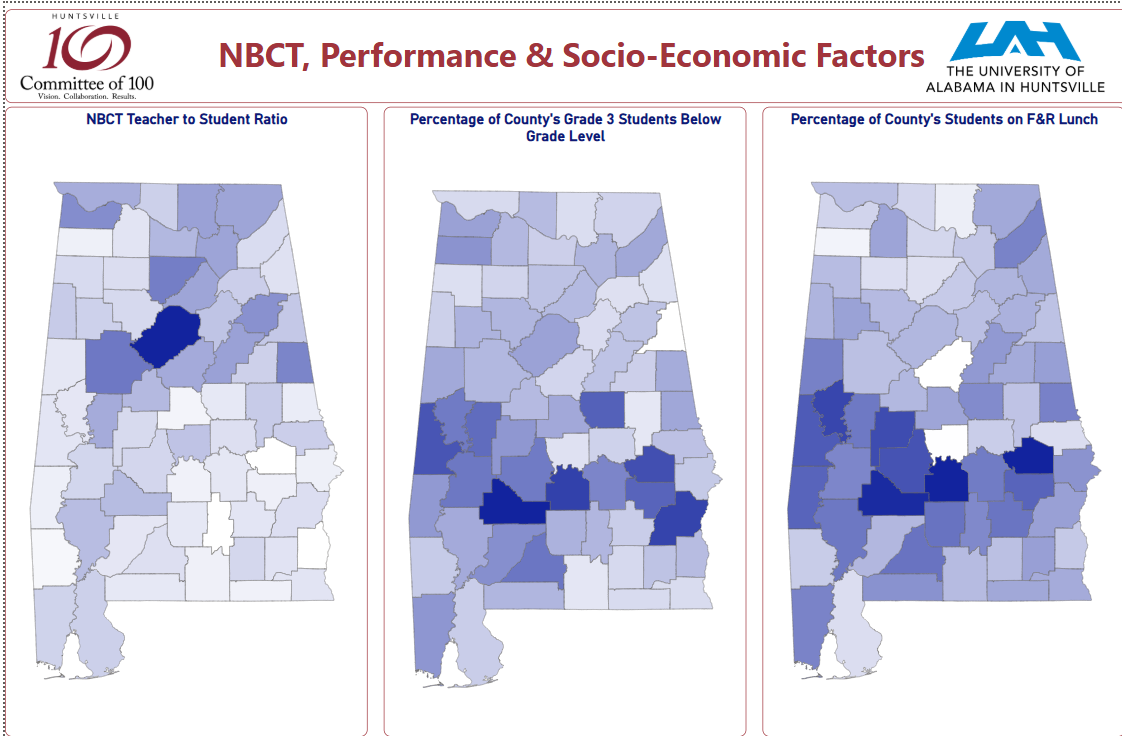

The dashboard page shown, as its layout file describes it:
{"tool":"powerbi","page":{"name":"NBCT, Performance and Socio-economic Factors","canvas":[1280,840],"ordinal":4},"visuals":[{"type":"image","box":[5.7,7.1,175.7,107.1],"z":0,"group":"g1"},{"type":"shapeMap","title":" NBCT Teacher to Student Ratio","fields":{"Category":["Alabama Data.County Name"],"Value":["Sum(Proportions Comp.NBCT to Teacher Ratio)"]},"box":[0,119,414.3,720],"z":0},{"type":"image","box":[1028.6,15.7,251.4,91.4],"z":1000,"group":"g1"},{"type":"shapeMap","title":"Percentage of County''s Grade 3 Students Below Grade Level","fields":{"Category":["Alabama Data.County Name"],"Value":["Sum(Proportions Comp.Percentage of County's Grade 3 Students Below Grade Level)"]},"box":[432.9,119,414.3,720],"z":1000},{"type":"shapeMap","title":"Percentage of County''s Students on F&R Lunch","fields":{"Value":["Sum(Proportions Comp.Percentage of County's Students on F&R Lunch)"],"Category":["AL_comp Absolute Numbers.County Name"]},"box":[865.7,119,414.3,720],"z":2000},{"type":"textbox","box":[0,7.1,1292.9,107.1],"z":3000},{"type":"group","id":"g1","title":"Group 1","box":[5.7,7.1,1274.3,107.1],"z":4000}]}

Visuals, with their boxes in screenshot pixels (x1, y1, x2, y2), scaled from the page's 1280x840 canvas onto the 1122x736 screenshot:
image: bbox=[5, 6, 159, 100]
" NBCT Teacher to Student Ratio" shapeMap: bbox=[0, 104, 363, 735]
image: bbox=[902, 14, 1121, 94]
"Percentage of County''s Grade 3 Students Below Grade Level" shapeMap: bbox=[379, 104, 743, 735]
"Percentage of County''s Students on F&R Lunch" shapeMap: bbox=[759, 104, 1121, 735]
textbox: bbox=[0, 6, 1121, 100]
"Group 1" group: bbox=[5, 6, 1121, 100]
